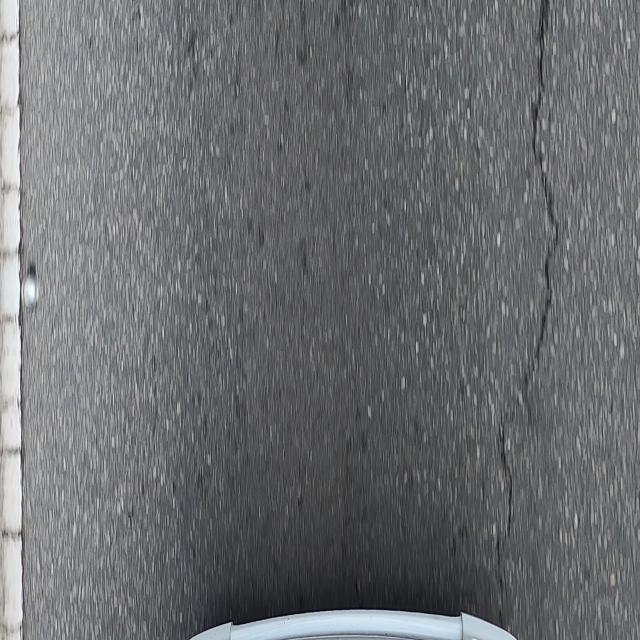Retak-Memanjang: (495, 4, 562, 538)
